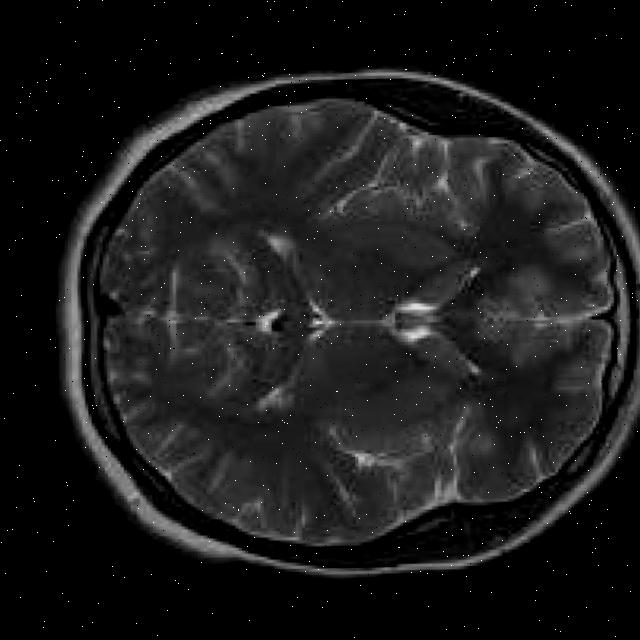NoTumor: (75, 68, 638, 574)
